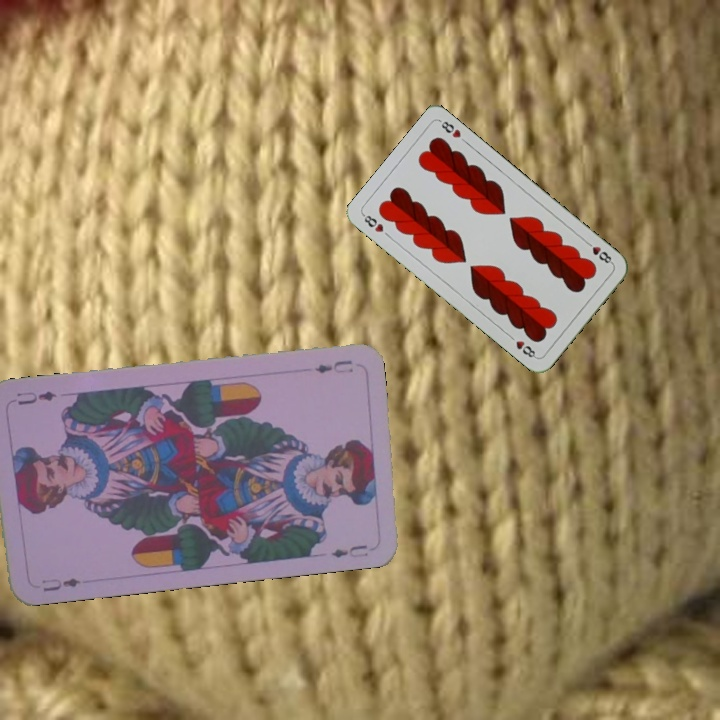EU: (37, 573, 83, 594), (311, 356, 355, 376)
H8: (581, 237, 616, 267), (359, 211, 386, 235)
